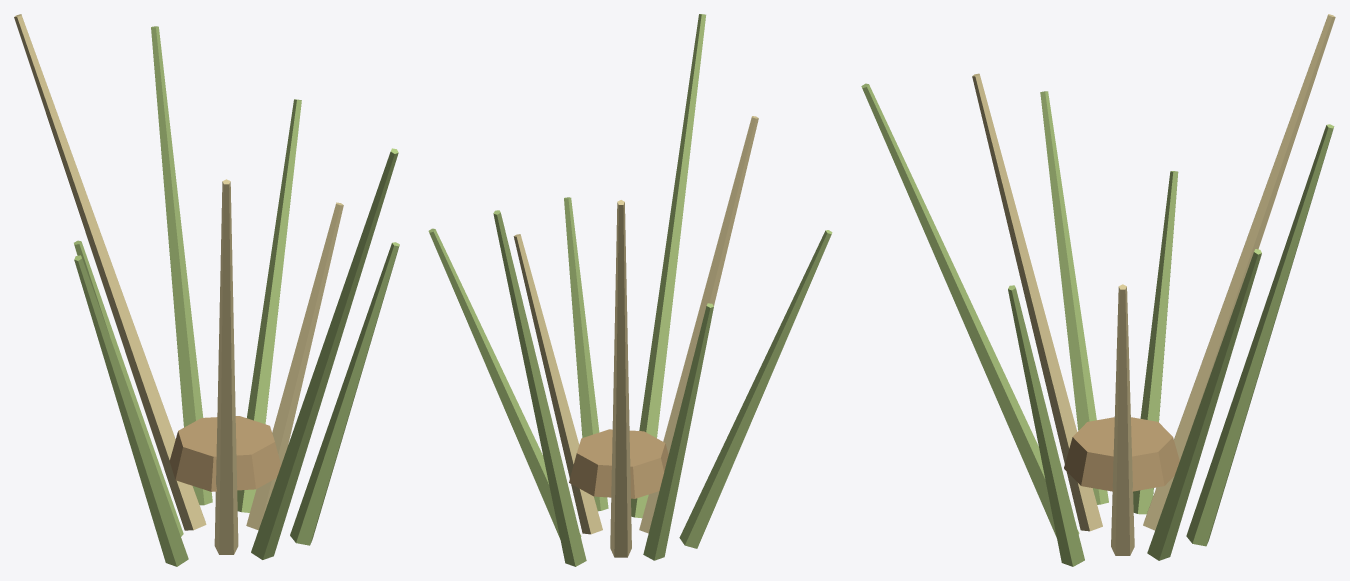
Rendered from fibra_recogible.glb.
3 renders of one model, left to right at view 1: azimuth 30°, elevation 25°; view 2: azimuth 150°, elevation 25°; view 3: azimuth 270°, elevation 25°, orthographic. The views are drawn at different scales.
Parts seen in each view (by area): view 1: fibra_recogible; view 2: fibra_recogible; view 3: fibra_recogible.
Part boxes in pixels (x1=…): fibra_recogible: x1=14, y1=14, x2=399, y2=566; fibra_recogible: x1=428, y1=14, x2=832, y2=566; fibra_recogible: x1=861, y1=14, x2=1335, y2=566.
Size of the model in its own units: 0.556 by 0.7507 by 0.6826.
